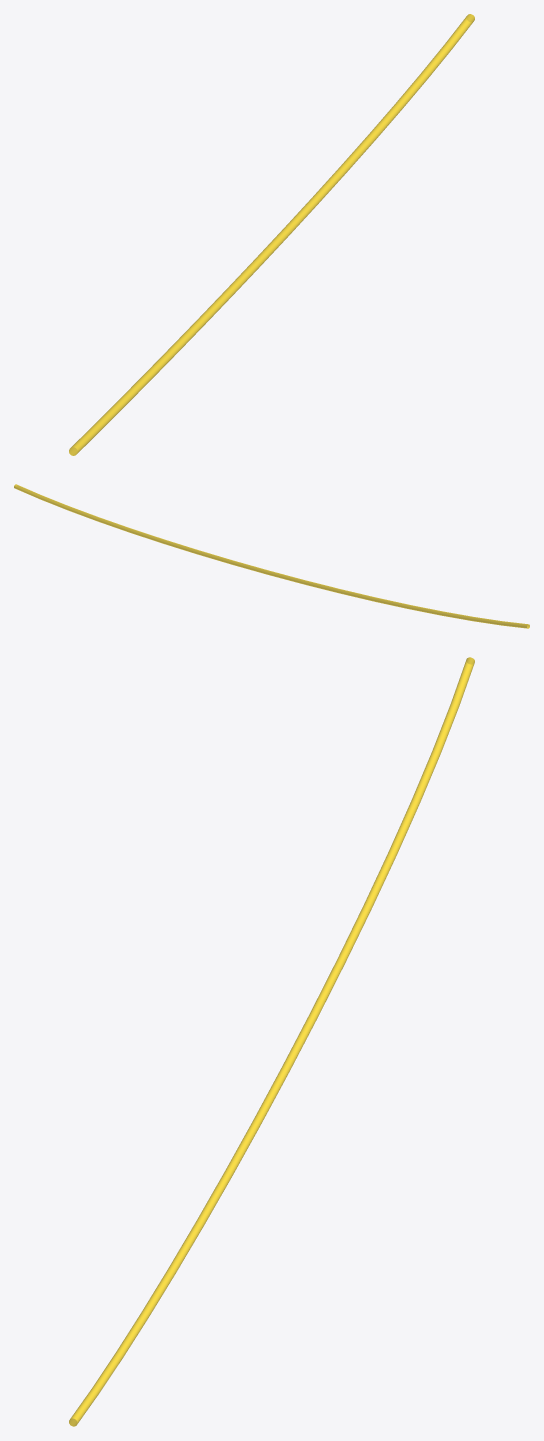
Rendered from Event_31209032_track_16.fbx.
3 renders of one model, top to bottom at view 1: azimuth 90°, elevation 25°; view 2: azimuth 150°, elevation 25°; view 3: azimuth 270°, elevation 25°, orthographic. The views are drawn at different scales.
Parts seen in each view (by area): view 1: Model; view 2: Model; view 3: Model.
Part boxes in pixels (x1,y1,x2,y2): Model: [69, 14, 474, 455]; Model: [14, 484, 529, 628]; Model: [69, 657, 474, 1426].
Bounding box in the file's own units: 6.3 × 0.8447 × 1.81.
